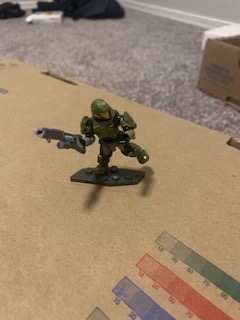soldier: (33, 98, 150, 179)
